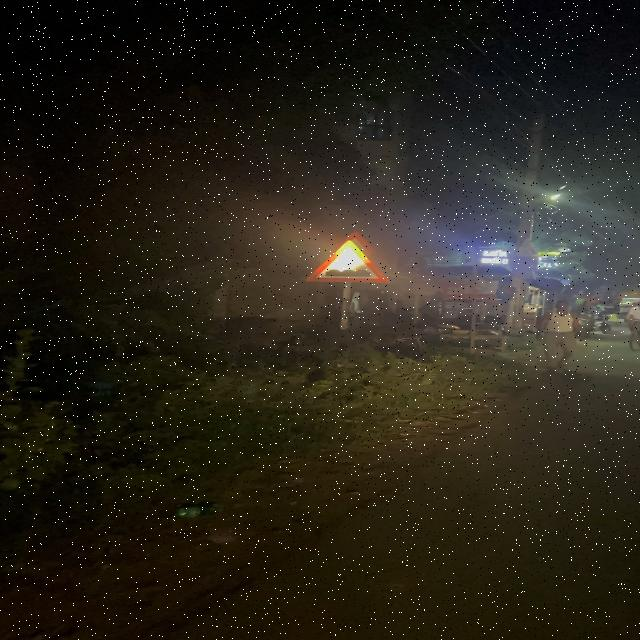Rumble_strip: (304, 234, 392, 286)
